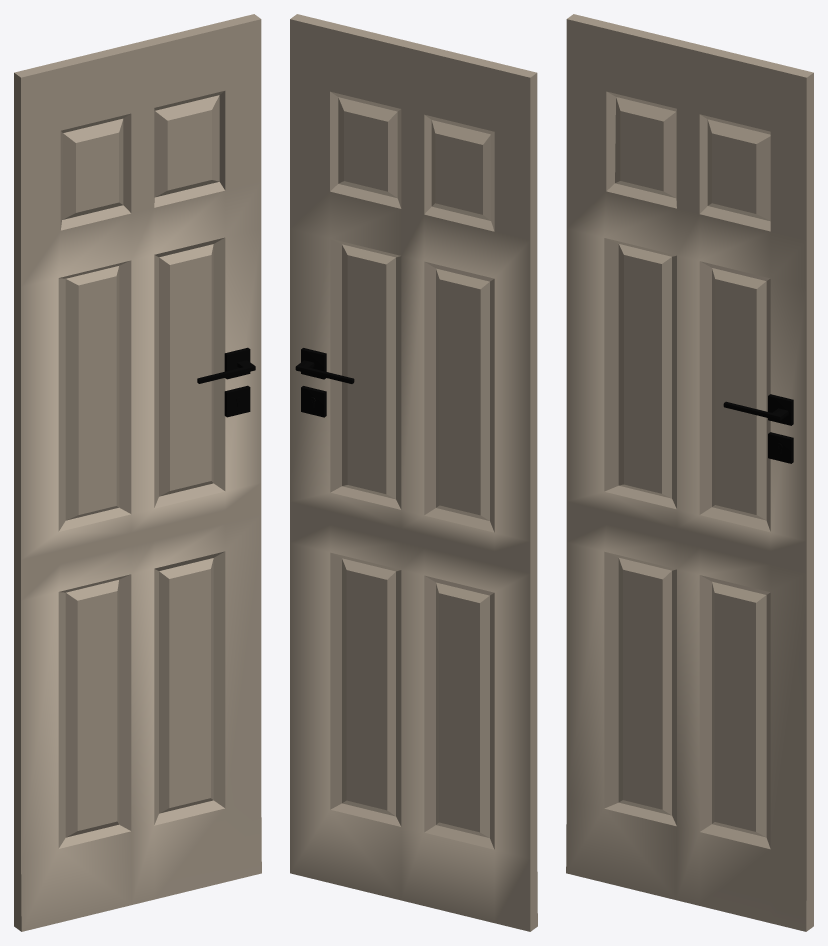
The model's file is SC_4_half_door.glb.
The picture shows the model from 3 angles, left to right: view 1: azimuth 30°, elevation 25°; view 2: azimuth 150°, elevation 25°; view 3: azimuth 330°, elevation 25°; orthographic projection.
Parts seen in each view (by area): view 1: SC_4__half_door_; view 2: SC_4__half_door_; view 3: SC_4__half_door_.
Part boxes in pixels (x1=…): SC_4__half_door_: x1=14, y1=14, x2=261, y2=931; SC_4__half_door_: x1=290, y1=14, x2=537, y2=931; SC_4__half_door_: x1=566, y1=14, x2=813, y2=931.
Size of the model in its own units: 0.5169 by 1.76 by 0.105.
Materials: 1 (1 with a texture image).
